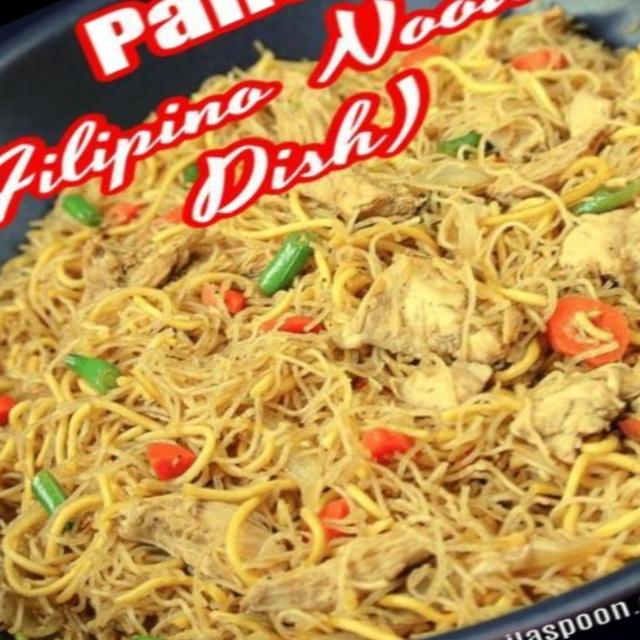pancit bihon: (0, 12, 639, 639)
